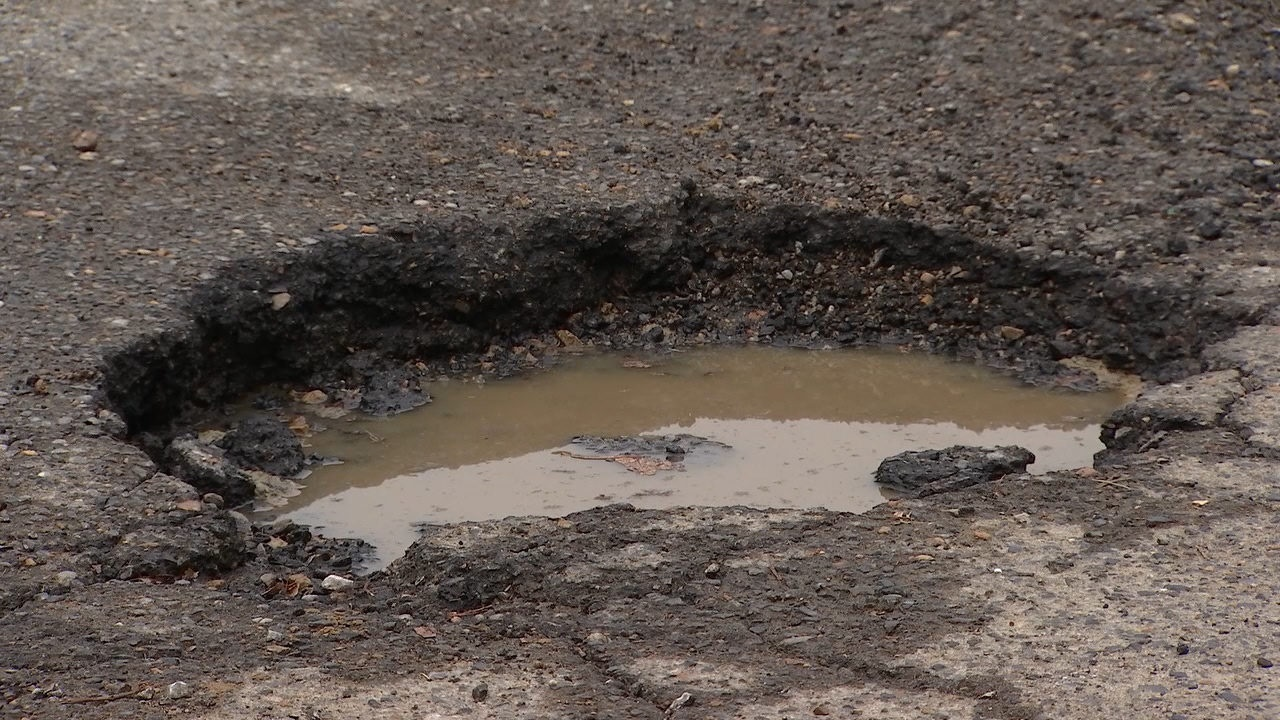pothole: (85, 121, 1215, 558)
